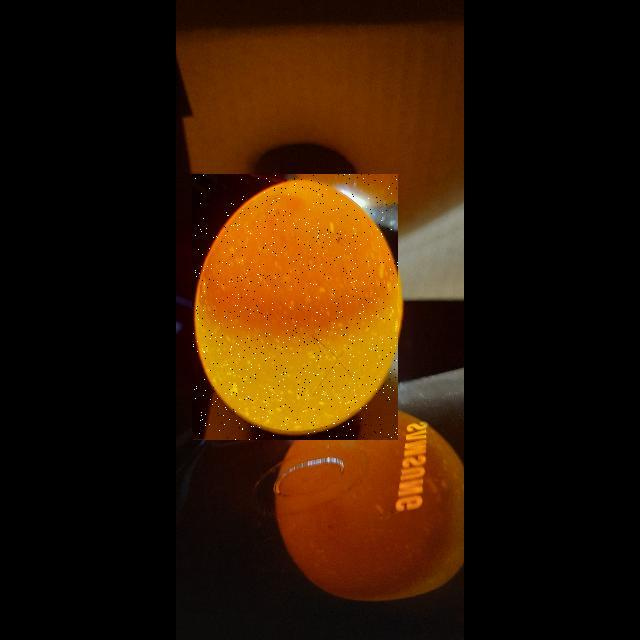Fertile: (192, 174, 398, 440)
